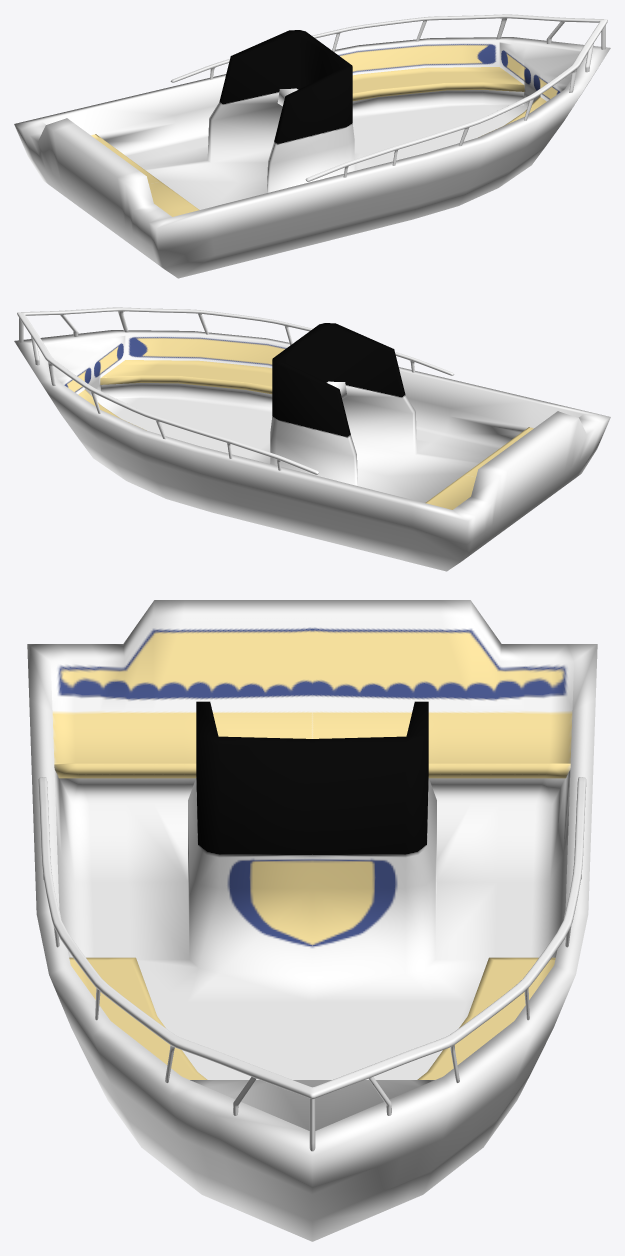
The model's file is motorboat.fbx.
3 renders of one model, top to bottom at view 1: azimuth 30°, elevation 25°; view 2: azimuth 150°, elevation 25°; view 3: azimuth 270°, elevation 25°, orthographic. The views are drawn at different scales.
Parts seen in each view (by area): view 1: Cube, Cube.001; view 2: Cube, Cube.001; view 3: Cube, Cube.001.
Boxes of the visible parts, x1,y1,x2,y2 form: Cube: (14,30,610,278); Cube.001: (170,14,607,181); Cube: (14,323,610,571); Cube.001: (17,307,454,474); Cube: (27,600,597,1241); Cube.001: (38,777,586,1151).
Size of the model in its own units: 3658 by 925 by 1719.
